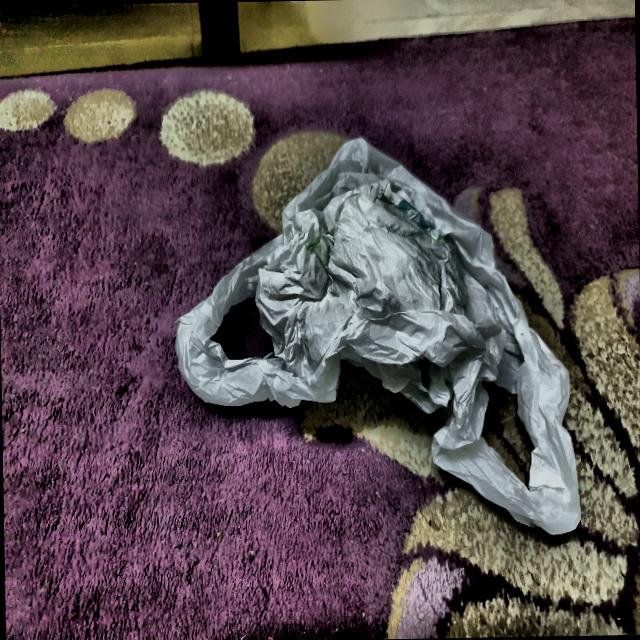plastic bag: (160, 120, 586, 552)
